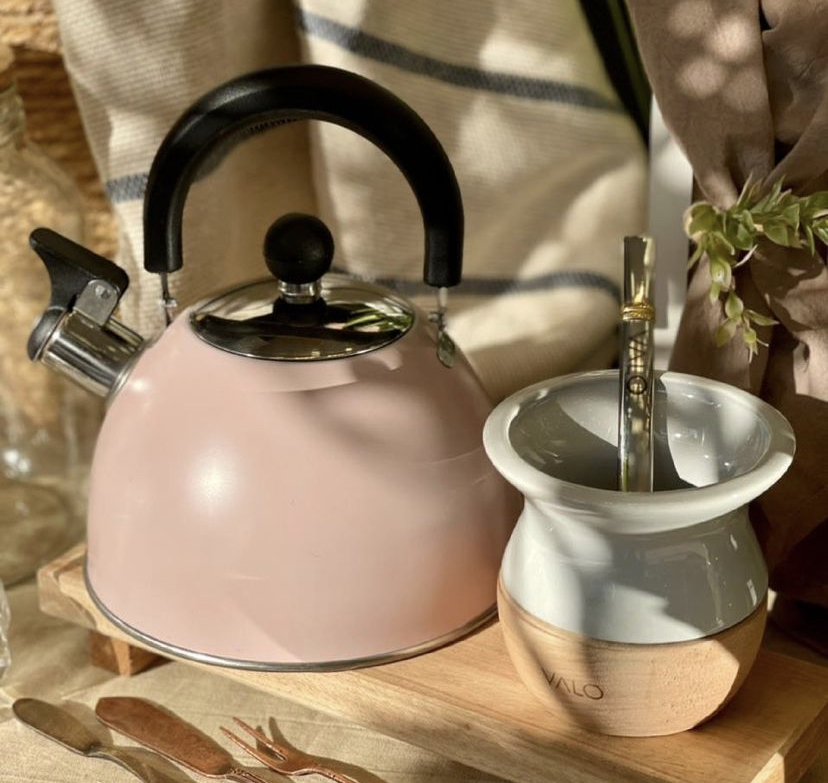mate: (476, 211, 801, 742)
